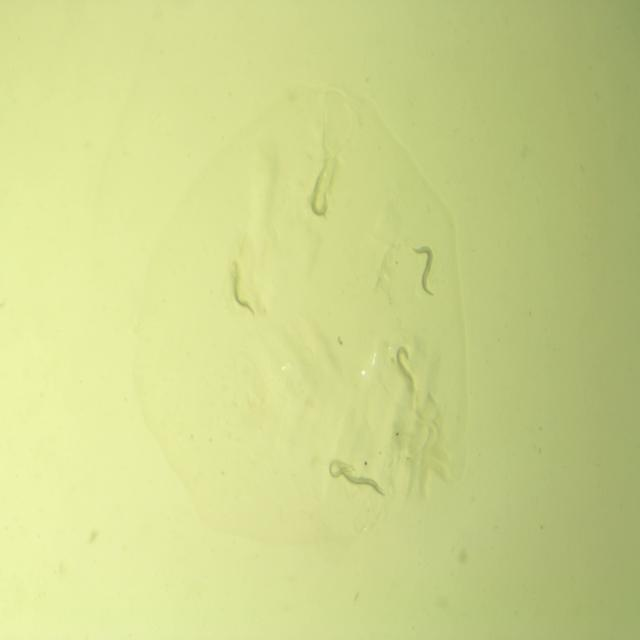worm: (336, 458, 387, 499), (227, 256, 257, 322), (410, 241, 436, 301), (308, 161, 333, 220), (392, 342, 417, 398), (325, 460, 357, 484)
